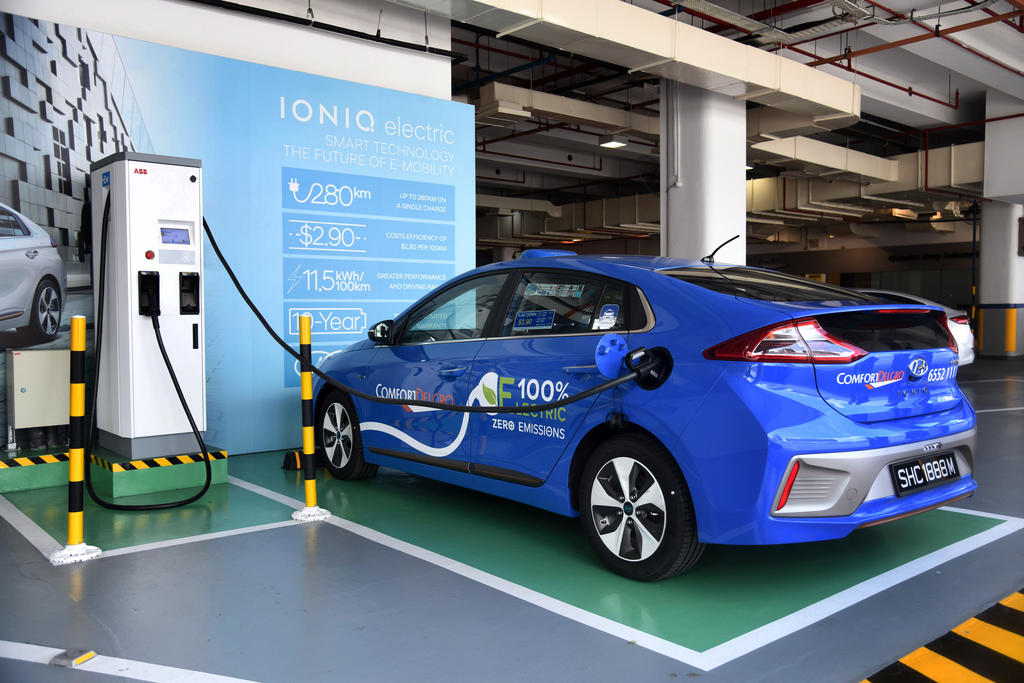car: (283, 243, 1009, 607)
